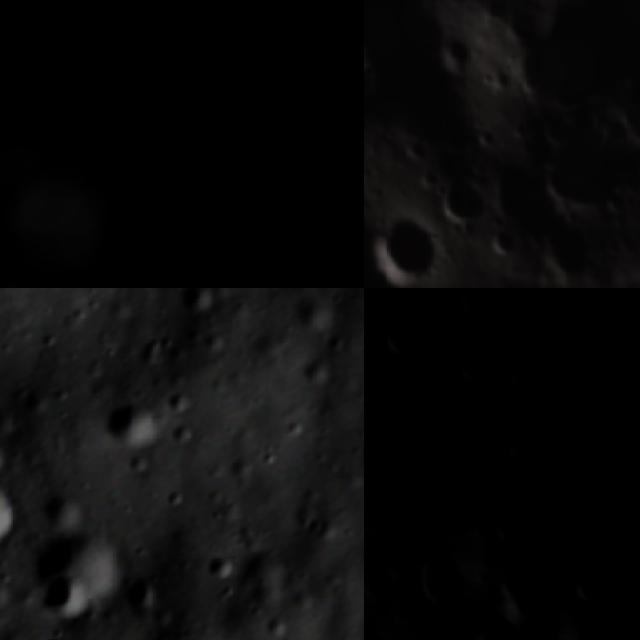crater: (521, 104, 640, 247), (23, 522, 127, 618), (364, 195, 452, 288), (426, 157, 496, 240), (403, 538, 472, 610), (102, 393, 168, 452), (424, 25, 483, 87), (30, 576, 90, 624), (501, 574, 549, 618), (500, 351, 546, 394), (0, 470, 24, 551), (376, 320, 425, 359), (465, 613, 532, 640), (453, 288, 496, 327), (471, 388, 510, 428), (497, 506, 535, 546), (124, 565, 158, 609), (450, 352, 488, 387), (499, 425, 534, 463), (205, 548, 242, 582), (178, 288, 224, 314), (548, 288, 586, 318), (425, 604, 457, 638), (389, 483, 423, 515), (0, 428, 22, 468), (620, 290, 640, 330), (587, 335, 615, 363), (367, 538, 392, 567), (382, 384, 410, 409), (603, 375, 627, 401), (386, 604, 410, 628), (35, 631, 66, 640)
